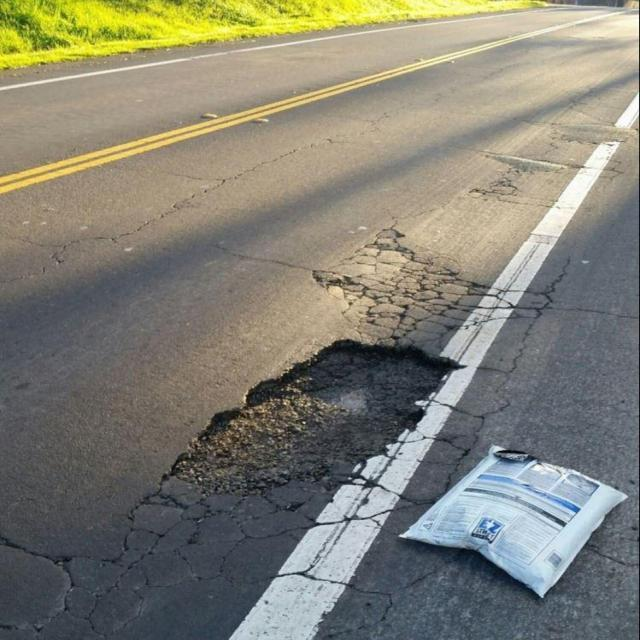Pothole: (176, 341, 466, 504)
